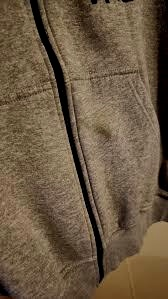oil: (98, 127, 117, 146)
